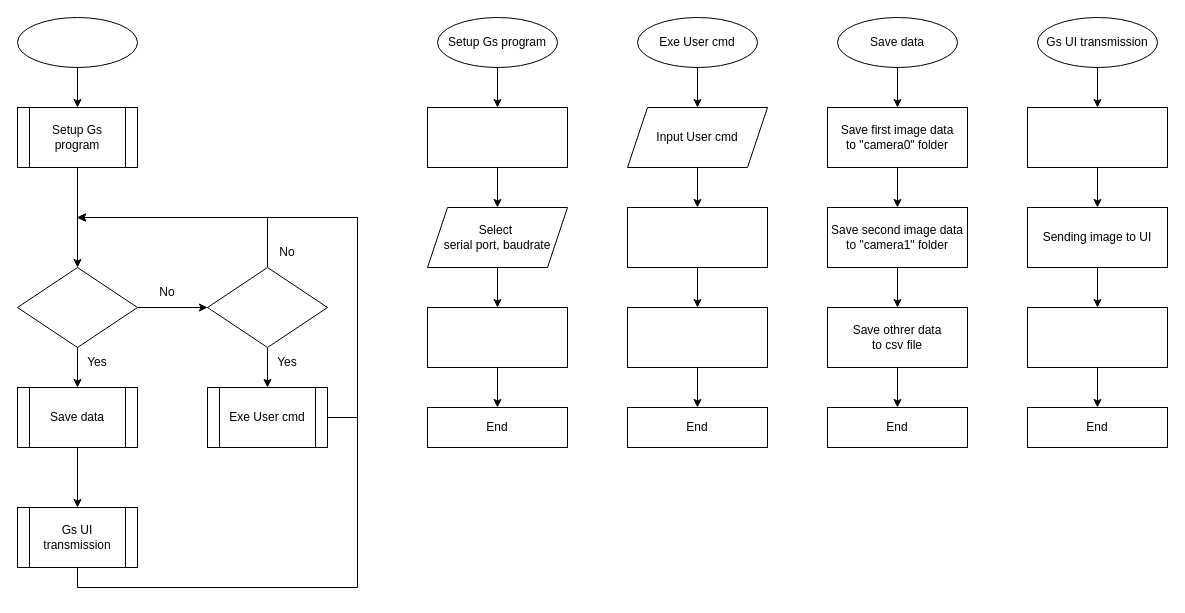
Image size: 1185x613. Some labels were removed from this diagram. Each missing label, with the box of its shape:
Connect to SD-1000U: (426, 306, 568, 368)
Gs program start: (16, 16, 138, 68)
has Input queue from cansat: (16, 266, 138, 348)
has User cmd: (206, 266, 328, 348)
Load Gs UI: (426, 106, 568, 168)
Load image data: (1026, 106, 1168, 168)
Send return message to UI: (626, 306, 768, 368)
Send User cmd to SD-1000U: (626, 206, 768, 268)
Sending other data to UI ex) IMU: (1026, 306, 1168, 368)
